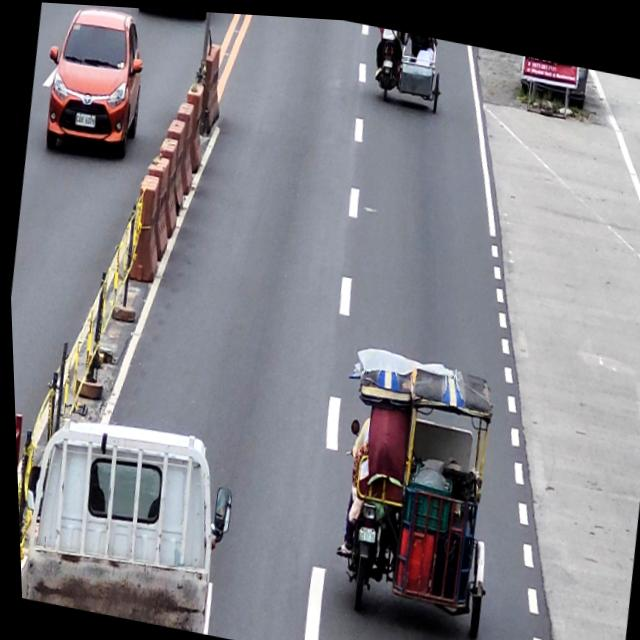License-Plate: (351, 519, 375, 544)
Tricycle: (312, 339, 511, 640), (367, 22, 449, 111)
Truck: (12, 405, 228, 633)
